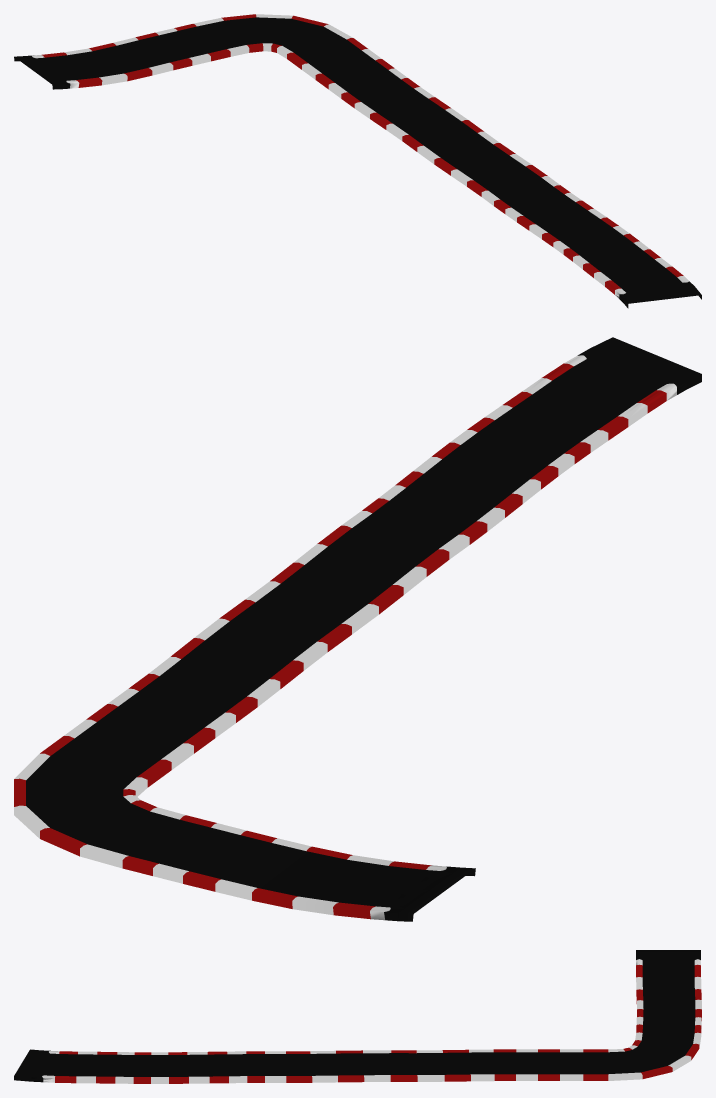
Rendered from track - straight.FBX.
The picture shows the model from 3 angles, top to bottom: view 1: azimuth 30°, elevation 25°; view 2: azimuth 150°, elevation 25°; view 3: azimuth 270°, elevation 25°; orthographic projection. The views are drawn at different scales.
Parts seen in each view (by area): view 1: straight; view 2: straight; view 3: straight.
Part boxes in pixels (x1=…): straight: x1=14, y1=14, x2=701, y2=308; straight: x1=14, y1=337, x2=701, y2=921; straight: x1=14, y1=950, x2=701, y2=1083.
Bounding box in the file's own units: 123 × 6.33 × 296.
